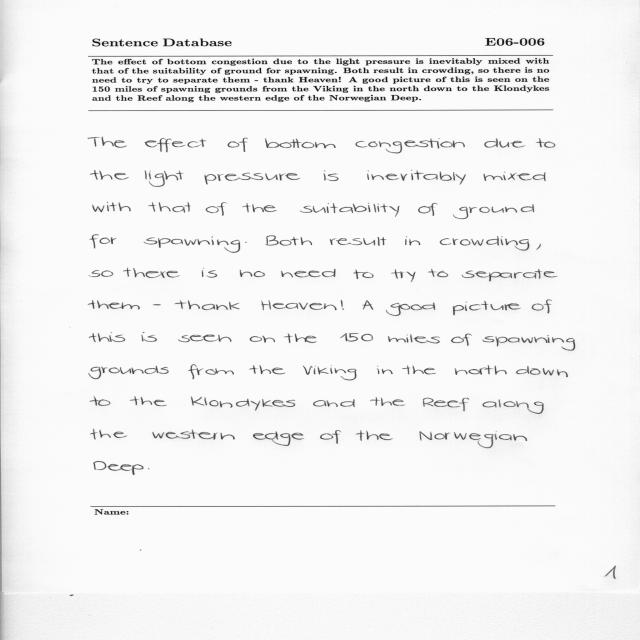word: (420, 431, 527, 448), (355, 139, 465, 154), (144, 236, 241, 253), (191, 396, 295, 411), (367, 170, 466, 185), (483, 335, 575, 351), (300, 203, 400, 217), (440, 236, 530, 251), (453, 204, 534, 219), (204, 173, 300, 185), (462, 269, 557, 281), (89, 366, 169, 379), (453, 301, 521, 315), (483, 399, 544, 414), (152, 429, 235, 440), (145, 138, 206, 152), (253, 431, 304, 446), (261, 301, 337, 311), (303, 366, 356, 380), (265, 139, 336, 149), (94, 461, 144, 475), (386, 302, 435, 316), (145, 170, 184, 187), (175, 300, 240, 310), (188, 365, 234, 379), (423, 398, 469, 411), (516, 366, 568, 377), (123, 268, 180, 278), (484, 172, 546, 181), (388, 334, 440, 344), (455, 365, 507, 375), (330, 237, 387, 246), (266, 235, 312, 246), (281, 269, 336, 278), (148, 202, 191, 213), (88, 300, 140, 309), (178, 335, 232, 343), (88, 137, 127, 148), (90, 429, 127, 440), (356, 430, 393, 441), (90, 170, 129, 180), (93, 203, 131, 213), (484, 139, 526, 148), (90, 235, 117, 249), (130, 396, 167, 406), (89, 333, 125, 343), (242, 203, 277, 213), (313, 399, 355, 407), (249, 366, 286, 375), (284, 333, 317, 343), (391, 269, 416, 282), (370, 397, 405, 406), (402, 366, 436, 375), (340, 333, 373, 342), (206, 202, 227, 216), (320, 430, 341, 444), (228, 138, 248, 152), (451, 333, 472, 346), (532, 300, 552, 313), (418, 203, 437, 216), (90, 396, 111, 406), (353, 269, 373, 279), (536, 138, 555, 148), (240, 270, 265, 277), (250, 336, 275, 343), (89, 270, 113, 277), (324, 170, 339, 181), (428, 269, 448, 277), (141, 332, 157, 342), (202, 268, 217, 278), (405, 237, 420, 246), (377, 366, 393, 374), (363, 300, 374, 310), (536, 243, 541, 250), (341, 300, 344, 310), (153, 304, 160, 305), (245, 241, 247, 243), (148, 468, 149, 470)
